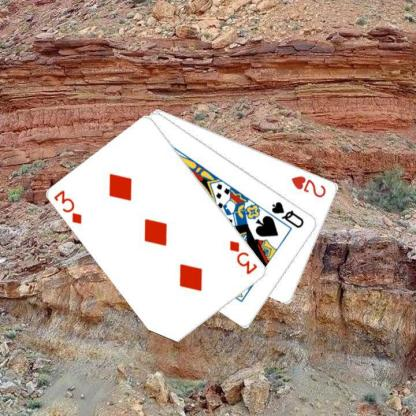2H: (289, 173, 327, 199)
3D: (51, 187, 84, 226), (227, 238, 259, 276)
QS: (269, 199, 306, 229)
